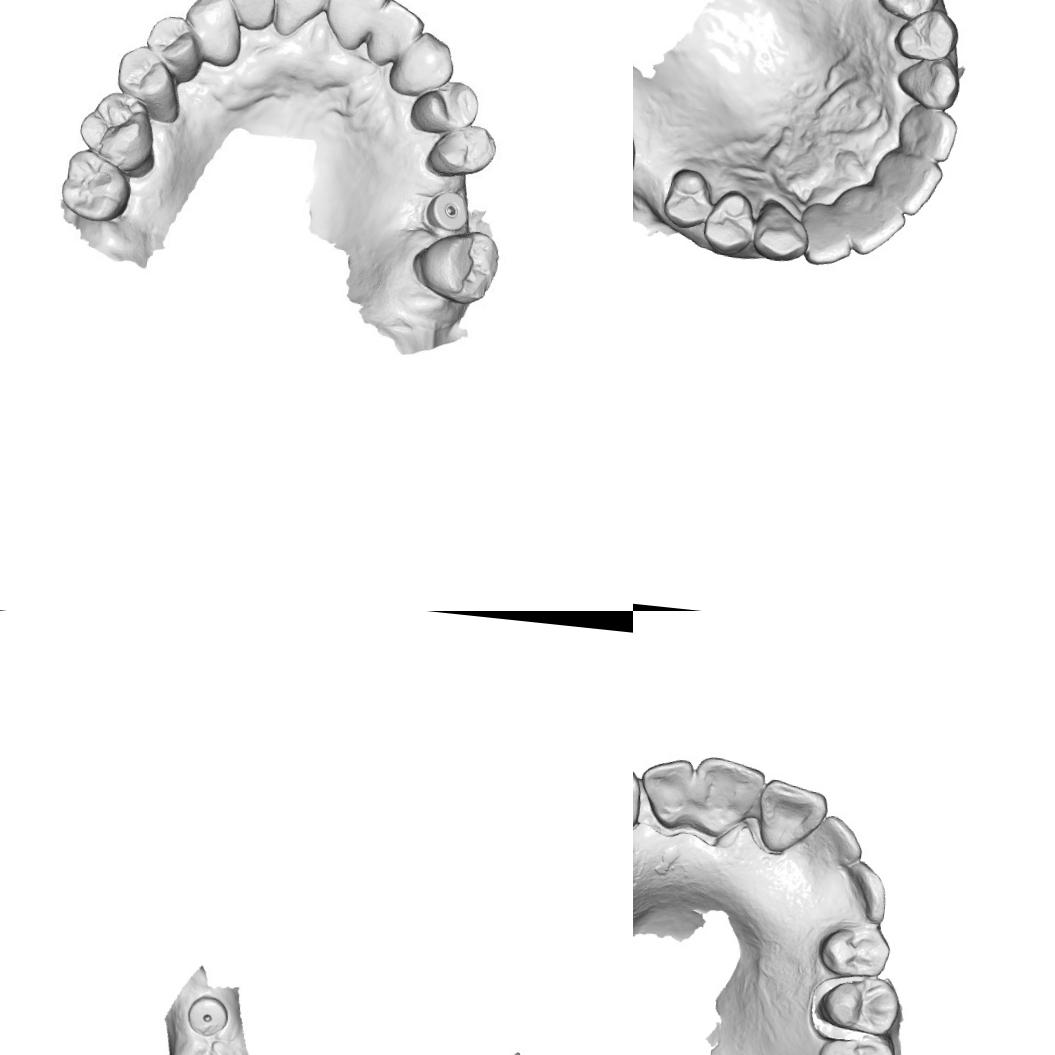canine: (384, 28, 458, 102), (180, 0, 246, 70), (892, 50, 962, 114), (749, 196, 812, 264), (841, 856, 894, 925)
implant: (183, 992, 231, 1040), (426, 186, 472, 233)
incisor: (689, 752, 768, 840), (752, 778, 832, 858), (839, 182, 910, 260), (636, 754, 696, 832), (876, 152, 945, 219), (796, 200, 856, 271), (894, 100, 960, 164), (372, 0, 427, 64), (810, 812, 866, 870), (320, 0, 389, 45), (264, 0, 334, 36), (227, 0, 277, 36)
molar: (412, 225, 506, 308), (73, 86, 158, 176), (58, 148, 134, 225), (812, 1033, 896, 1055)
premolar: (812, 970, 903, 1039), (425, 116, 501, 184), (816, 920, 894, 982), (112, 42, 179, 114), (407, 78, 478, 143), (700, 186, 758, 260), (892, 4, 962, 64), (139, 14, 204, 76), (660, 166, 714, 231), (875, 0, 943, 23)
